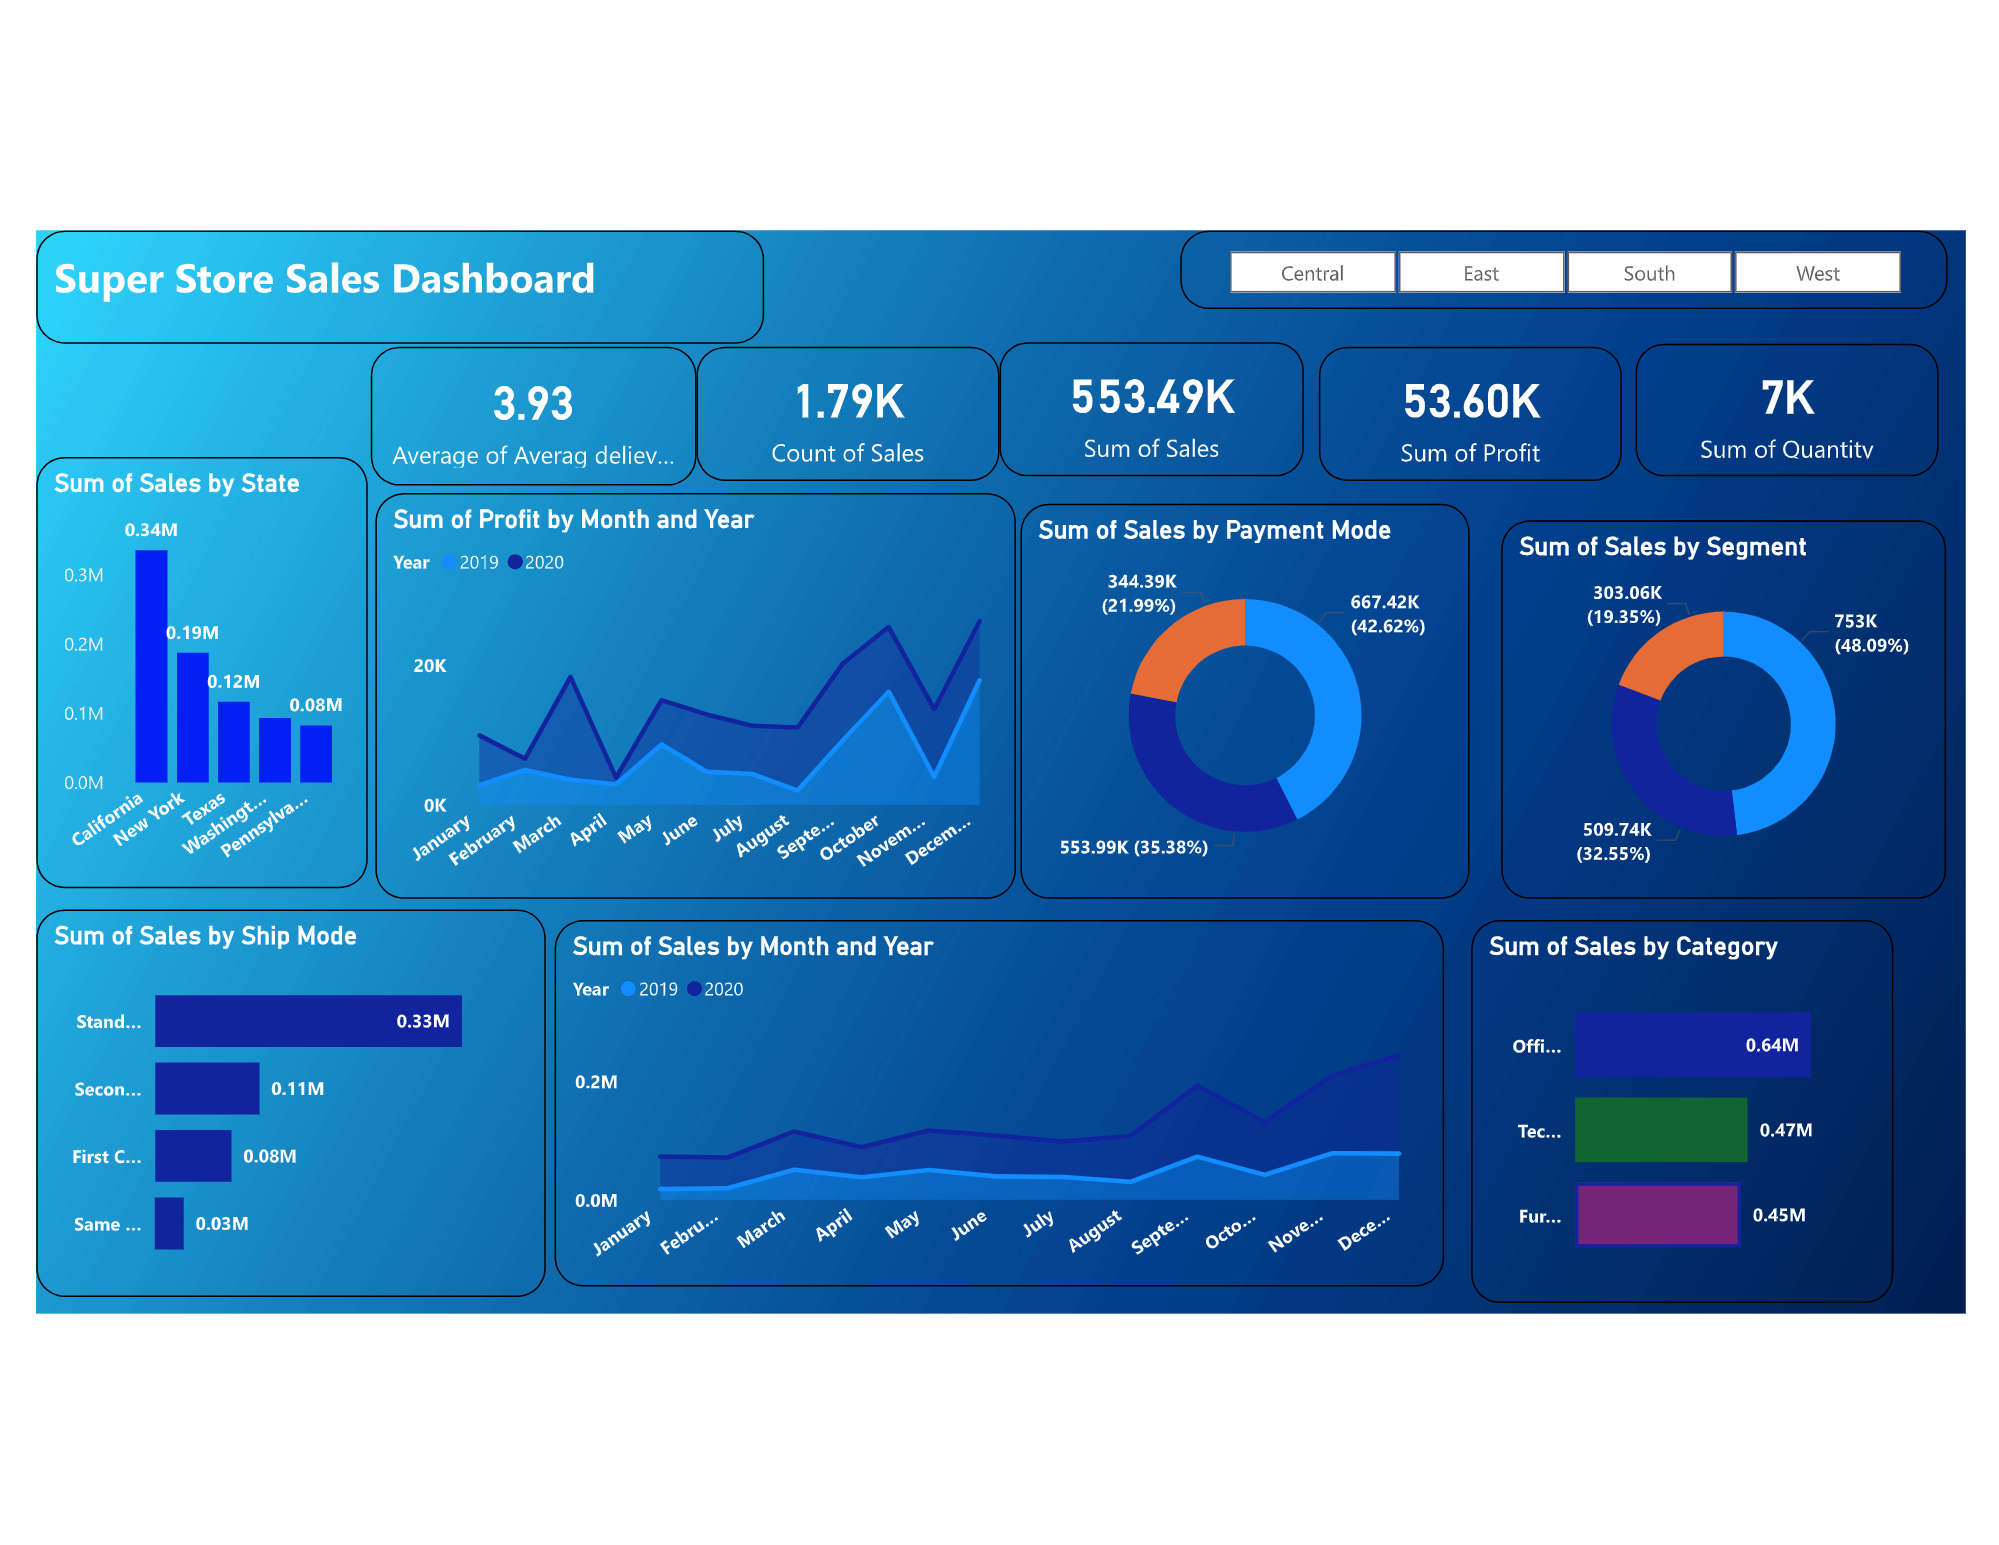

This screenshot's page, from the dashboard's own definition file:
{"tool":"powerbi","page":{"name":"Page 1","canvas":[1280,720],"ordinal":0},"visuals":[{"type":"clusteredBarChart","fields":{"Y":["Sum(SuperStore_Sales_Dataset.Sales)"],"Category":["SuperStore_Sales_Dataset.Category"]},"box":[952.3,456.9,279.9,253.9],"z":0},{"type":"card","fields":{"Values":["CountNonNull(SuperStore_Sales_Dataset.Sales)"]},"box":[437.7,76.8,201.7,89.2],"z":1000},{"type":"clusteredBarChart","fields":{"Y":["Sum(SuperStore_Sales_Dataset.Sales)"],"Category":["SuperStore_Sales_Dataset.Ship Mode"]},"box":[0,450.1,337.6,256.6],"z":2000},{"type":"stackedAreaChart","fields":{"Category":["SuperStore_Sales_Dataset.Order Date.Variation.Date Hierarchy.Month","SuperStore_Sales_Dataset.Order Date.Variation.Date Hierarchy.Day"],"Y":["Sum(SuperStore_Sales_Dataset.Sales)"],"Series":["SuperStore_Sales_Dataset.Order Date.Variation.Date Hierarchy.Year"]},"box":[344.4,456.9,590.1,242.9],"z":3000},{"type":"stackedAreaChart","fields":{"Category":["SuperStore_Sales_Dataset.Order Date.Variation.Date Hierarchy.Month","SuperStore_Sales_Dataset.Order Date.Variation.Date Hierarchy.Day"],"Series":["SuperStore_Sales_Dataset.Order Date.Variation.Date Hierarchy.Year"],"Y":["Sum(SuperStore_Sales_Dataset.Profit)"]},"box":[225,174.3,425.4,269],"z":4000},{"type":"columnChart","fields":{"Category":["SuperStore_Sales_Dataset.State"],"Y":["Sum(SuperStore_Sales_Dataset.Sales)"]},"box":[0,149.6,219.6,286.8],"z":5000},{"type":"donutChart","fields":{"Category":["SuperStore_Sales_Dataset.Segment"],"Y":["Sum(SuperStore_Sales_Dataset.Sales)"]},"box":[971.5,192.1,295,251.1],"z":6000},{"type":"donutChart","fields":{"Category":["SuperStore_Sales_Dataset.Payment Mode"],"Y":["Sum(SuperStore_Sales_Dataset.Sales)"]},"box":[653.2,181.1,297.8,262.1],"z":7000},{"type":"slicer","fields":{"Values":["SuperStore_Sales_Dataset.Region"]},"box":[758.8,0,509.1,52.1],"z":8000},{"type":"textbox","box":[0,0,483,75.5],"z":9000},{"type":"card","fields":{"Values":["Sum(SuperStore_Sales_Dataset.Profit)"]},"box":[850.8,76.8,201.7,89.2],"z":10000},{"type":"card","fields":{"Values":["Sum(SuperStore_Sales_Dataset.Quantity)"]},"box":[1060.7,75.5,201.7,87.8],"z":11000},{"type":"card","fields":{"Values":["Avg(SuperStore_Sales_Dataset.Averag delievery)"]},"box":[222.3,76.8,215.4,91.9],"z":12000},{"type":"card","fields":{"Values":["Sum(SuperStore_Sales_Dataset.Sales)"]},"box":[639.5,74.1,201.7,89.2],"z":13000}]}

Visuals, with their boxes on the page's 1280x720 design canvas (x1, y1, x2, y2). These are canvas units, not pixel positions in the 1999x1545 screenshot, which may show the page scaled, cropped or inside an application window:
clusteredBarChart - Sum(SuperStore_Sales_Dataset.Sales) x SuperStore_Sales_Dataset.Category: <box>952,457,1232,711</box>
card - CountNonNull(SuperStore_Sales_Dataset.Sales): <box>438,77,639,166</box>
clusteredBarChart - Sum(SuperStore_Sales_Dataset.Sales) x SuperStore_Sales_Dataset.Ship Mode: <box>0,450,338,707</box>
stackedAreaChart - SuperStore_Sales_Dataset.Order Date.Variation.Date Hierarchy.Month x SuperStore_Sales_Dataset.Order Date.Variation.Date Hierarchy.Day: <box>344,457,934,700</box>
stackedAreaChart - SuperStore_Sales_Dataset.Order Date.Variation.Date Hierarchy.Month x SuperStore_Sales_Dataset.Order Date.Variation.Date Hierarchy.Day: <box>225,174,650,443</box>
columnChart - SuperStore_Sales_Dataset.State x Sum(SuperStore_Sales_Dataset.Sales): <box>0,150,220,436</box>
donutChart - SuperStore_Sales_Dataset.Segment x Sum(SuperStore_Sales_Dataset.Sales): <box>972,192,1266,443</box>
donutChart - SuperStore_Sales_Dataset.Payment Mode x Sum(SuperStore_Sales_Dataset.Sales): <box>653,181,951,443</box>
slicer - SuperStore_Sales_Dataset.Region: <box>759,0,1268,52</box>
textbox: <box>0,0,483,76</box>
card - Sum(SuperStore_Sales_Dataset.Profit): <box>851,77,1052,166</box>
card - Sum(SuperStore_Sales_Dataset.Quantity): <box>1061,76,1262,163</box>
card - Avg(SuperStore_Sales_Dataset.Averag delievery): <box>222,77,438,169</box>
card - Sum(SuperStore_Sales_Dataset.Sales): <box>640,74,841,163</box>
